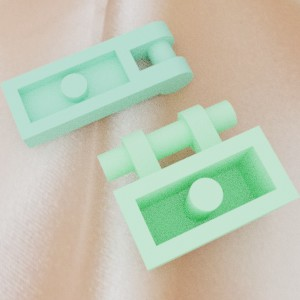lego: (97, 100, 299, 271), (0, 21, 193, 148)
